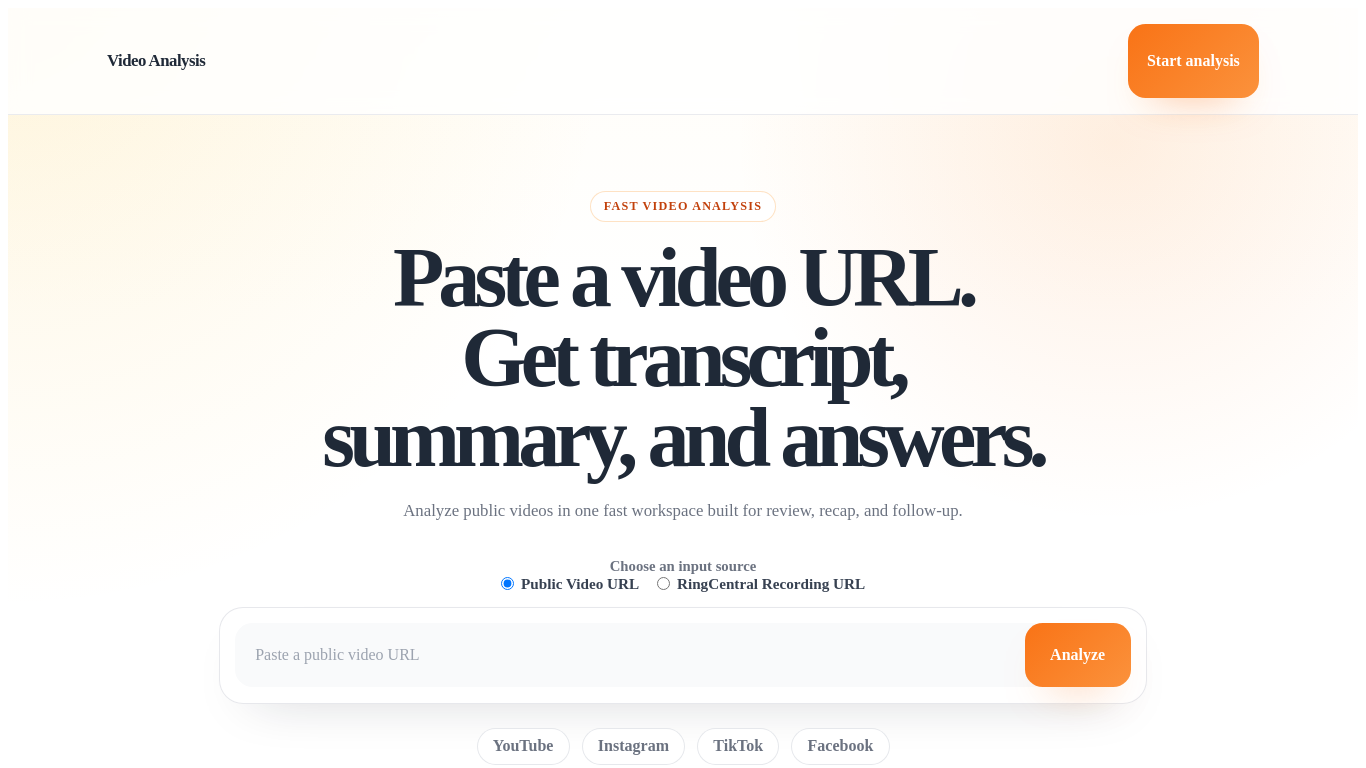
Test case: reveals the workflow panels after creating a job
Check: the heading "AI output" is not shown
Type "https://example.com/video" into the field named "Video source" at [643, 656], box [235,624,1050,688]
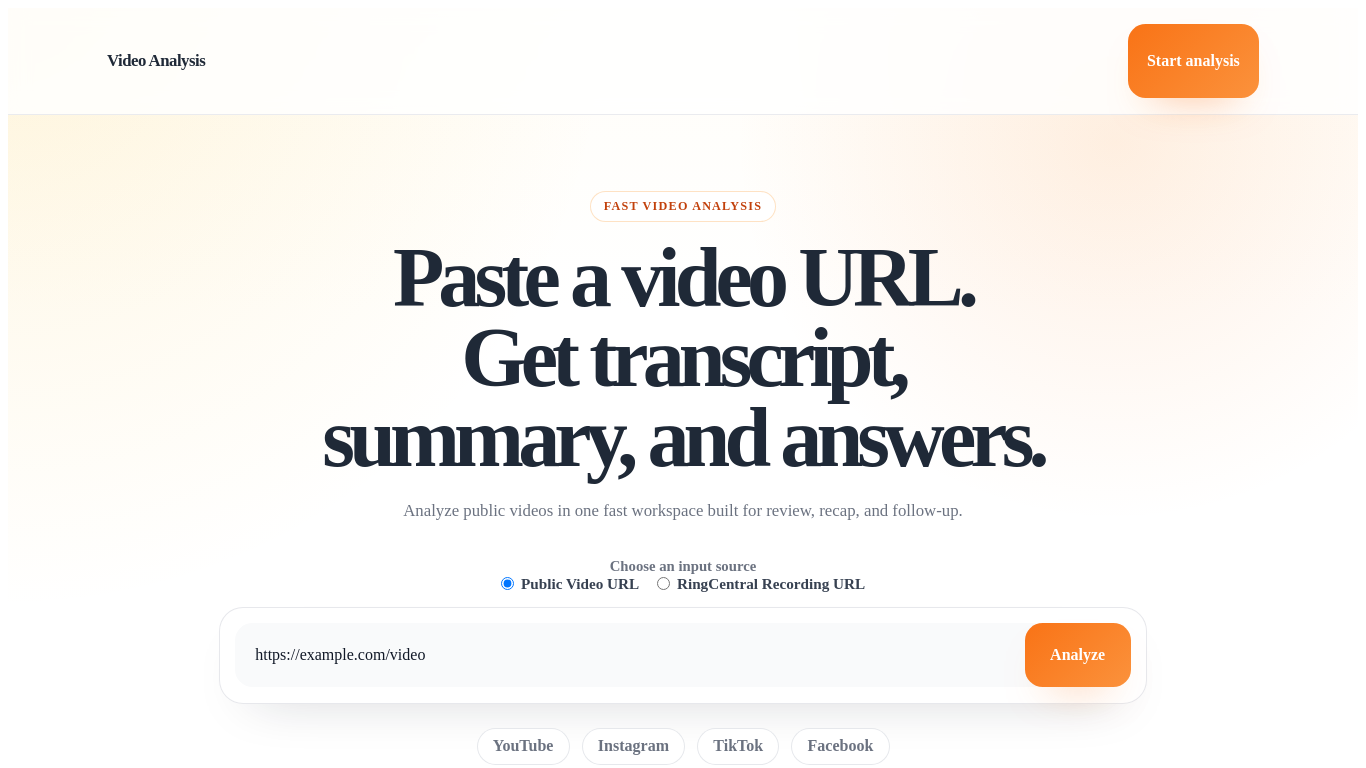
Click the button "Analyze" at [1078, 656], box [1024,624,1131,688]
(page scrolled)
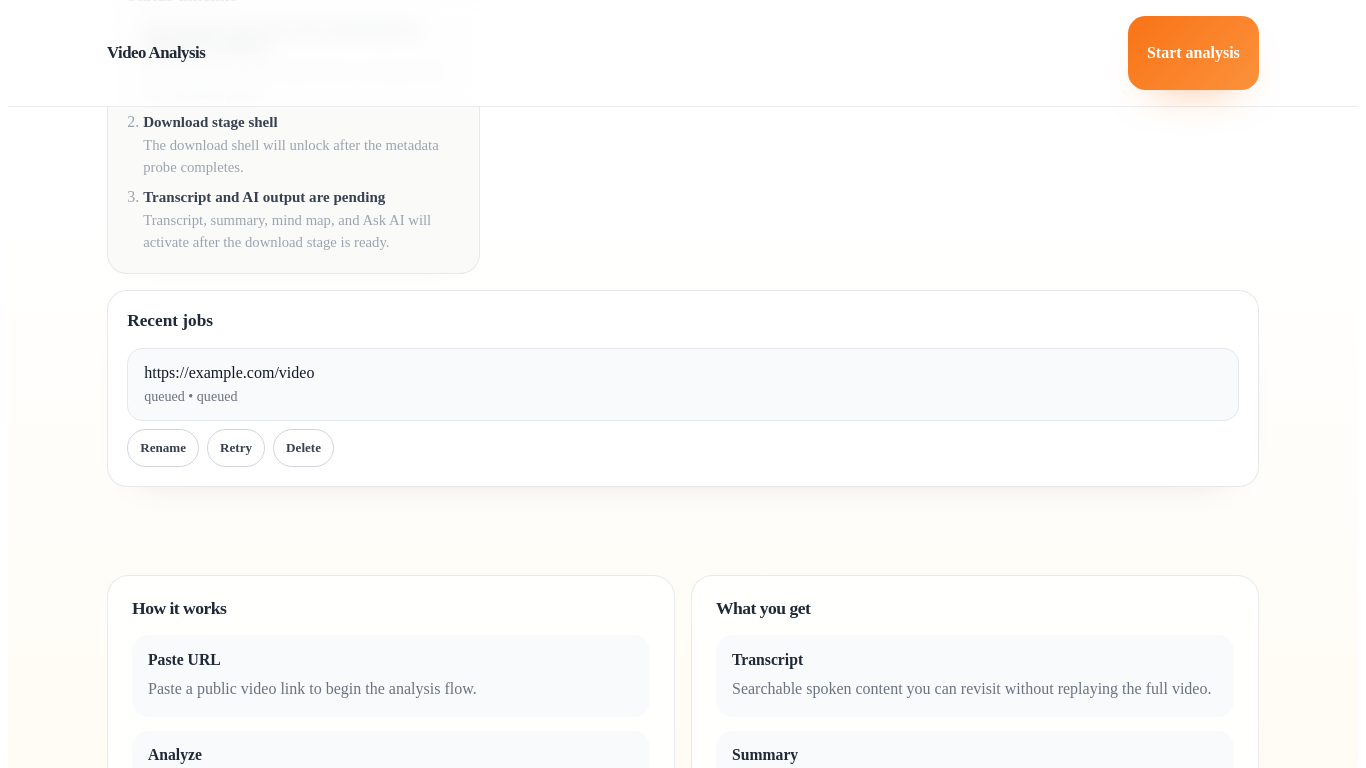
Check: the heading "Recent jobs" is shown, box [127,311,213,330]
Check: the text "Job 11111111-1111-1111-1111-111111111111 is queued for analysis." is shown, box [143,22,459,56]
Check: the button "https://example.com/video queued • queued" is shown, box [127,348,1239,421]
